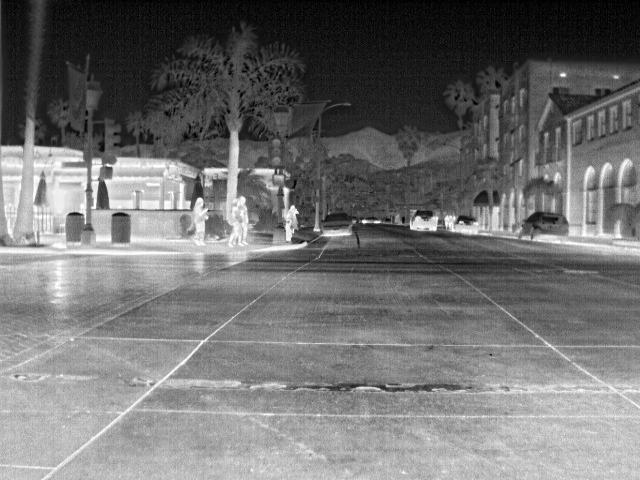car: (518, 209, 573, 245), (319, 213, 355, 238), (411, 207, 442, 232), (452, 216, 482, 232)
person: (225, 198, 244, 248), (191, 197, 209, 247), (240, 195, 254, 245), (288, 204, 302, 236)
